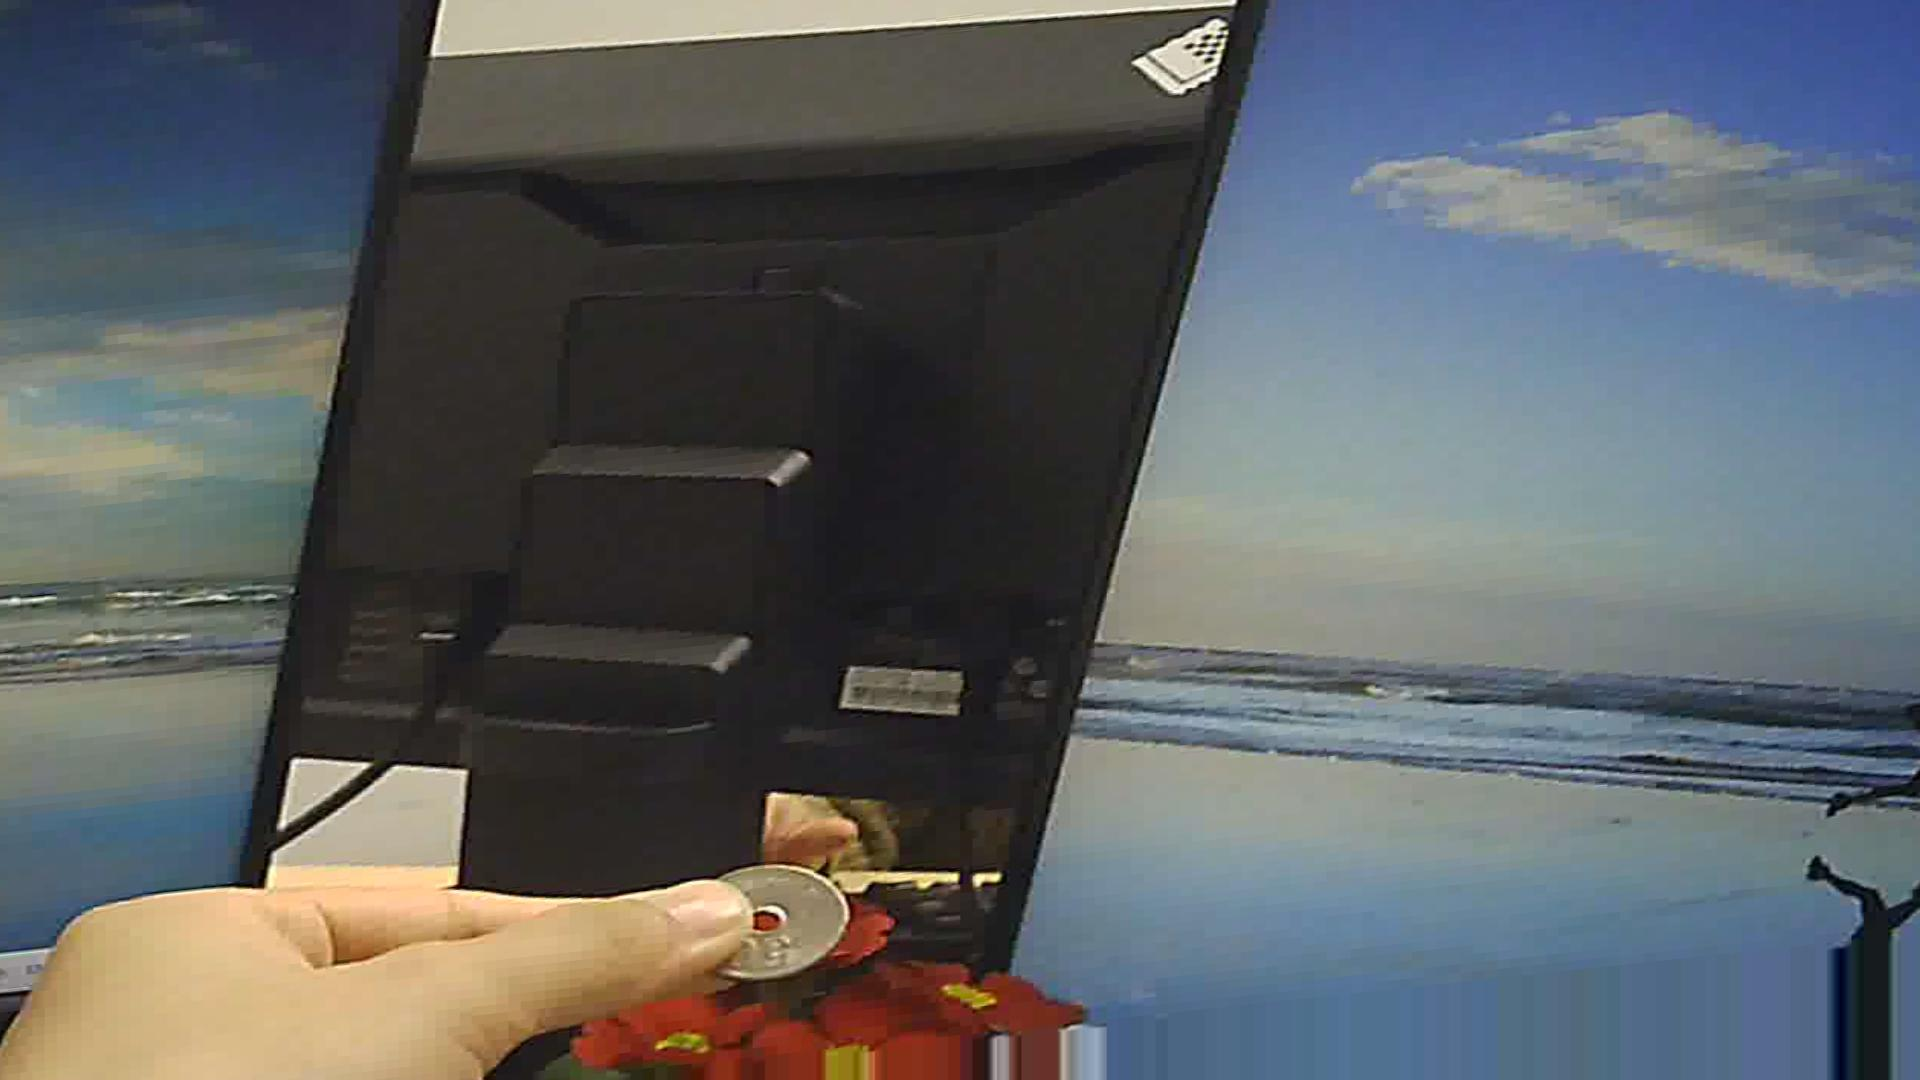50 Yen: (691, 864, 866, 981)
